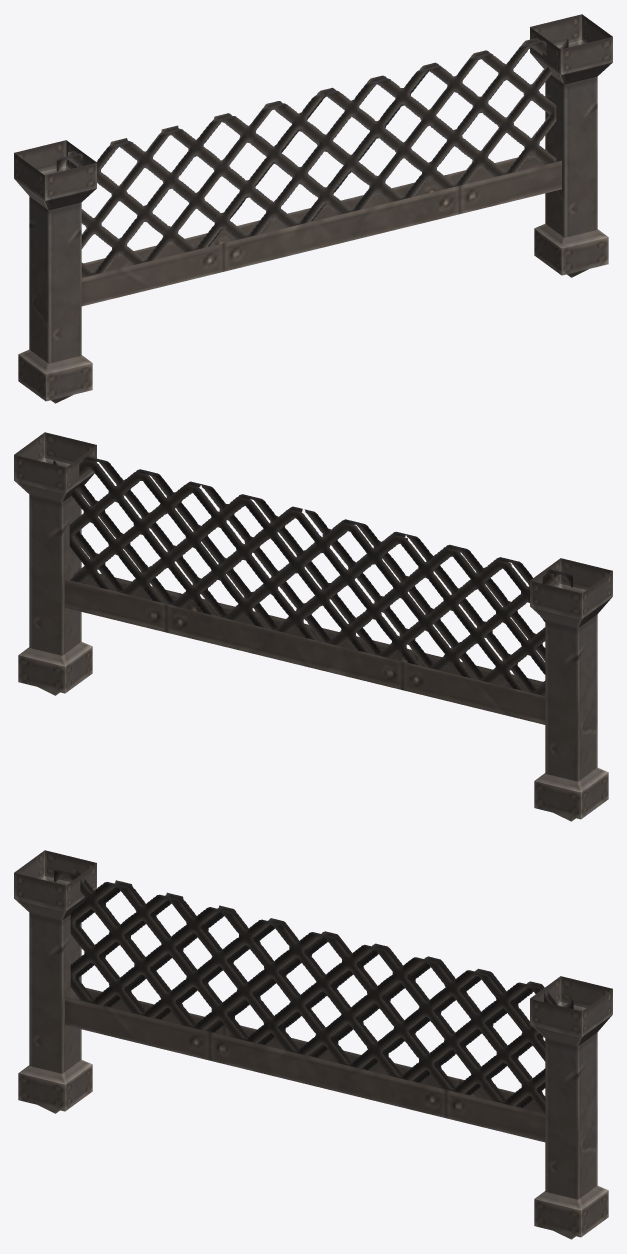
The model's file is metal_fence.FBX.
3 views of the same model, one above another, from view 1: azimuth 30°, elevation 25°; view 2: azimuth 150°, elevation 25°; view 3: azimuth 330°, elevation 25° (orthographic).
Parts seen in each view (by area): view 1: metal_fence; view 2: metal_fence; view 3: metal_fence.
Part boxes in pixels (box(x1,y1,x2,y2)): metal_fence: box(14, 14, 612, 403); metal_fence: box(14, 432, 612, 821); metal_fence: box(14, 850, 612, 1239).
Size of the model in its own units: 73.18 by 6.88 by 30.28.
